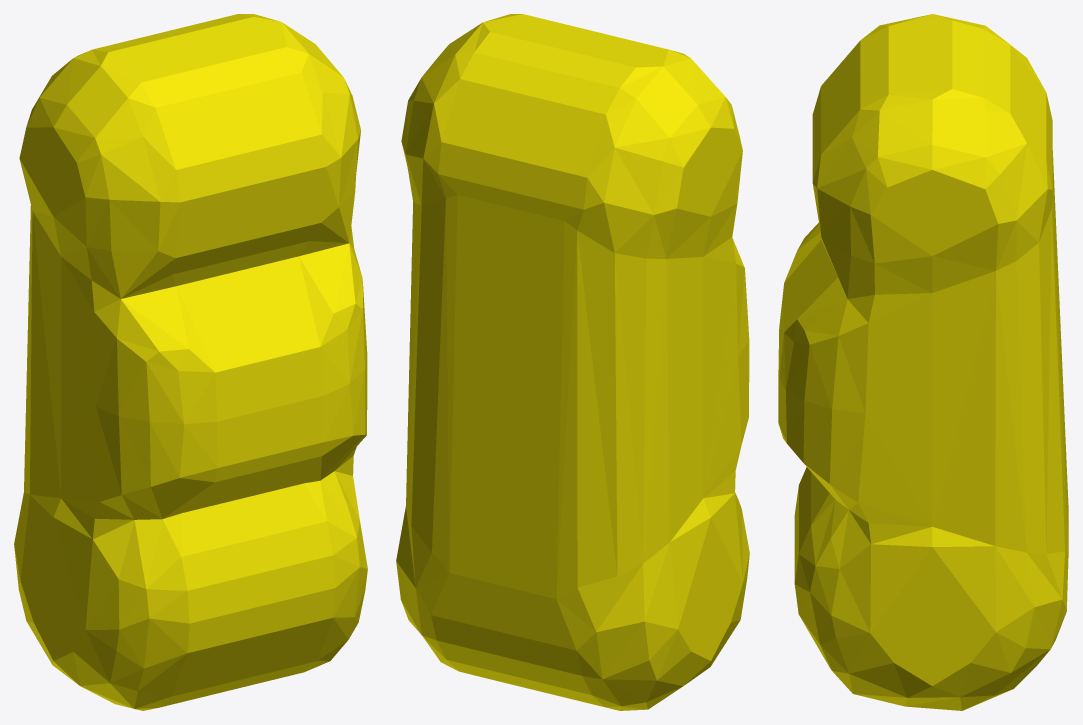
3 renders of one model, left to right at view 1: azimuth 30°, elevation 25°; view 2: azimuth 150°, elevation 25°; view 3: azimuth 270°, elevation 25°, orthographic. The views are drawn at different scales.
Parts seen in each view (by area): view 1: middle; view 2: middle; view 3: middle.
Part boxes in pixels (x1,y1,x2,y2): middle: [14, 14, 367, 710]; middle: [396, 14, 749, 710]; middle: [778, 14, 1068, 710].
Size of the model in its own units: 18 by 16.96 by 39.93.
